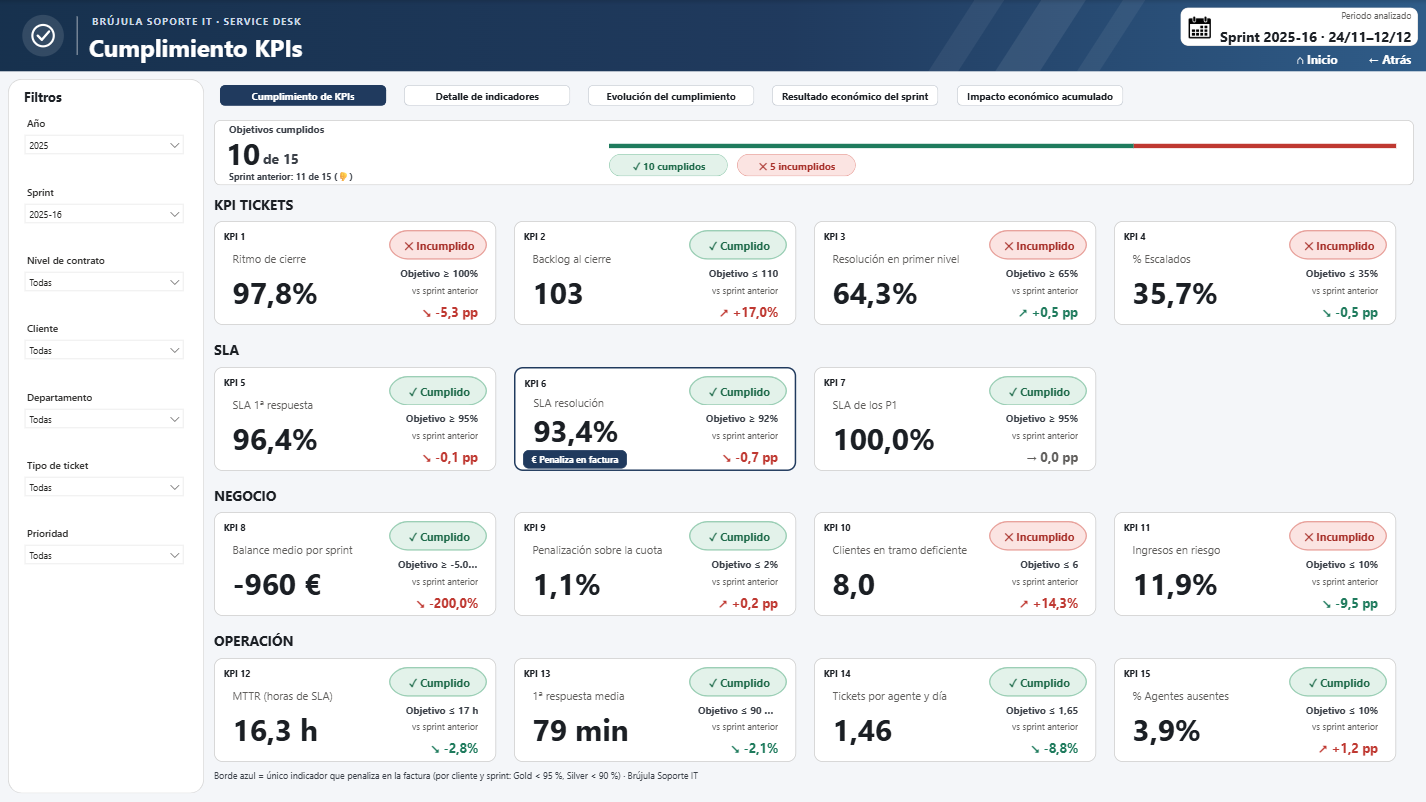

The dashboard page shown, as its layout file describes it:
{"tool":"powerbi","page":{"name":"Cumplimiento de KPIs","canvas":[1920,1080],"ordinal":1},"visuals":[{"type":"shape","box":[10.9,106,263.9,962],"z":0},{"type":"textbox","box":[32,118,216,32],"z":1000},{"type":"slicer","fields":{"Values":["Sprint.Año"]},"box":[28,158,224,80],"z":2000},{"type":"slicer","fields":{"Values":["Sprint.Sprint"]},"box":[28,250,224,80],"z":3000},{"type":"slicer","fields":{"Values":["Cliente.Nivel de contrato"]},"box":[28,342,224,80],"z":4000},{"type":"slicer","fields":{"Values":["Cliente.Cliente"]},"box":[28,434,224,80],"z":5000},{"type":"slicer","fields":{"Values":["Departamento.Departamento"]},"box":[28,526,224,80],"z":6000},{"type":"slicer","fields":{"Values":["Política SLA.Tipo"]},"box":[28,618,224,80],"z":7000},{"type":"slicer","fields":{"Values":["Política SLA.Prioridad"]},"box":[28,710,224,80],"z":8000},{"type":"textbox","box":[120,42,1000,44],"z":9000},{"type":"shape","box":[288,162,1616,88],"z":10000},{"type":"textbox","box":[308,166,300,18],"z":11000},{"type":"cardVisual","fields":{"Data":["Medidas.KPI Cumplido"]},"box":[304,188.3,60,44.3],"z":12000},{"type":"cardVisual","fields":{"Data":["Medidas.Texto total objetivos"]},"box":[354,182,120,44],"z":13000},{"type":"cardVisual","fields":{"Data":["Medidas.Texto sprint anterior objetivos"]},"box":[308.4,215.5,479.4,35],"z":14000},{"type":"hundredPercentStackedBarChart","fields":{"Category":["Sprint.Sprint"],"Y":["Medidas.KPI Cumplido","Medidas.KPI Incumplido"]},"box":[820,178,1060,30],"z":15000},{"type":"cardVisual","fields":{"Data":["Medidas.Texto leyenda cumplidos"]},"box":[820,208,160,30],"z":16000},{"type":"cardVisual","fields":{"Data":["Medidas.Texto leyenda incumplidos"]},"box":[992,208,160,30],"z":17000},{"type":"textbox","box":[288,262,600,32],"z":18000},{"type":"cardVisual","title":"KPI 1","fields":{"Data":["Medidas.Valor KPI"]},"box":[288,298,380,140],"z":19000},{"type":"cardVisual","fields":{"Data":["Medidas.Texto estado"]},"box":[524,310,132,40],"z":20000},{"type":"cardVisual","fields":{"Data":["Medidas.Texto objetivo KPI"]},"box":[524,350,132,26],"z":21000},{"type":"cardVisual","fields":{"Data":["Medidas.Variación KPI texto"]},"box":[524,378,132,56],"z":22000},{"type":"cardVisual","title":"KPI 2","fields":{"Data":["Medidas.Valor KPI"]},"box":[692,298,380,140],"z":23000},{"type":"cardVisual","fields":{"Data":["Medidas.Texto estado"]},"box":[928,310,132,40],"z":24000},{"type":"cardVisual","fields":{"Data":["Medidas.Texto objetivo KPI"]},"box":[928,350,132,26],"z":25000},{"type":"cardVisual","fields":{"Data":["Medidas.Variación KPI texto"]},"box":[928,378,132,56],"z":26000},{"type":"cardVisual","title":"KPI 3","fields":{"Data":["Medidas.Valor KPI"]},"box":[1096,298,380,140],"z":27000},{"type":"cardVisual","fields":{"Data":["Medidas.Texto estado"]},"box":[1332,310,132,40],"z":28000},{"type":"cardVisual","fields":{"Data":["Medidas.Texto objetivo KPI"]},"box":[1332,350,132,26],"z":29000},{"type":"cardVisual","fields":{"Data":["Medidas.Variación KPI texto"]},"box":[1332,378,132,56],"z":30000},{"type":"cardVisual","title":"KPI 4","fields":{"Data":["Medidas.Valor KPI"]},"box":[1500,298,380,140],"z":31000},{"type":"cardVisual","fields":{"Data":["Medidas.Texto estado"]},"box":[1736,310,132,40],"z":32000},{"type":"cardVisual","fields":{"Data":["Medidas.Texto objetivo KPI"]},"box":[1736,350,132,26],"z":33000},{"type":"cardVisual","fields":{"Data":["Medidas.Variación KPI texto"]},"box":[1736,378,132,56],"z":34000},{"type":"textbox","box":[288,458,600,32],"z":35000},{"type":"cardVisual","title":"KPI 5","fields":{"Data":["Medidas.Valor KPI"]},"box":[288,494,380,140],"z":36000},{"type":"cardVisual","fields":{"Data":["Medidas.Texto estado"]},"box":[524,506,132,40],"z":37000},{"type":"cardVisual","fields":{"Data":["Medidas.Texto objetivo KPI"]},"box":[524,546,132,26],"z":38000},{"type":"cardVisual","fields":{"Data":["Medidas.Variación KPI texto"]},"box":[524,574,132,56],"z":39000},{"type":"cardVisual","title":"KPI 6","fields":{"Data":["Medidas.Valor KPI"]},"box":[692,494,380,140],"z":40000},{"type":"textbox","box":[704,606,140,25],"z":41000},{"type":"cardVisual","fields":{"Data":["Medidas.Texto estado"]},"box":[928,506,132,40],"z":42000},{"type":"cardVisual","fields":{"Data":["Medidas.Texto objetivo KPI"]},"box":[928,546,132,26],"z":43000},{"type":"cardVisual","fields":{"Data":["Medidas.Variación KPI texto"]},"box":[928,574,132,56],"z":44000},{"type":"cardVisual","title":"KPI 7","fields":{"Data":["Medidas.Valor KPI"]},"box":[1096,494,380,140],"z":45000},{"type":"cardVisual","fields":{"Data":["Medidas.Texto estado"]},"box":[1332,506,132,40],"z":46000},{"type":"cardVisual","fields":{"Data":["Medidas.Texto objetivo KPI"]},"box":[1332,546,132,26],"z":47000},{"type":"cardVisual","fields":{"Data":["Medidas.Variación KPI texto"]},"box":[1332,574,132,56],"z":48000},{"type":"textbox","box":[288,654,600,32],"z":49000},{"type":"cardVisual","title":"KPI 8","fields":{"Data":["Medidas.Valor KPI"]},"box":[288,690,380,140],"z":50000},{"type":"cardVisual","fields":{"Data":["Medidas.Texto estado"]},"box":[524,702,132,40],"z":51000},{"type":"cardVisual","fields":{"Data":["Medidas.Texto objetivo KPI"]},"box":[524,742,132,26],"z":52000},{"type":"cardVisual","fields":{"Data":["Medidas.Variación KPI texto"]},"box":[524,770,132,56],"z":53000},{"type":"cardVisual","title":"KPI 9","fields":{"Data":["Medidas.Valor KPI"]},"box":[692,690,380,140],"z":54000},{"type":"cardVisual","fields":{"Data":["Medidas.Texto estado"]},"box":[928,702,132,40],"z":55000},{"type":"cardVisual","fields":{"Data":["Medidas.Texto objetivo KPI"]},"box":[928,742,132,26],"z":56000},{"type":"cardVisual","fields":{"Data":["Medidas.Variación KPI texto"]},"box":[928,770,132,56],"z":57000},{"type":"cardVisual","title":"KPI 10","fields":{"Data":["Medidas.Valor KPI"]},"box":[1096,690,380,140],"z":58000},{"type":"cardVisual","fields":{"Data":["Medidas.Texto estado"]},"box":[1332,702,132,40],"z":59000},{"type":"cardVisual","fields":{"Data":["Medidas.Texto objetivo KPI"]},"box":[1332,742,132,26],"z":60000},{"type":"cardVisual","fields":{"Data":["Medidas.Variación KPI texto"]},"box":[1332,770,132,56],"z":61000},{"type":"cardVisual","title":"KPI 11","fields":{"Data":["Medidas.Valor KPI"]},"box":[1500,690,380,140],"z":62000},{"type":"cardVisual","fields":{"Data":["Medidas.Texto estado"]},"box":[1736,702,132,40],"z":63000},{"type":"cardVisual","fields":{"Data":["Medidas.Texto objetivo KPI"]},"box":[1736,742,132,26],"z":64000},{"type":"cardVisual","fields":{"Data":["Medidas.Variación KPI texto"]},"box":[1736,770,132,56],"z":65000},{"type":"textbox","box":[288,850,600,32],"z":66000},{"type":"cardVisual","title":"KPI 12","fields":{"Data":["Medidas.Valor KPI"]},"box":[288,886,380,140],"z":67000},{"type":"cardVisual","fields":{"Data":["Medidas.Texto estado"]},"box":[524,898,132,40],"z":68000},{"type":"cardVisual","fields":{"Data":["Medidas.Texto objetivo KPI"]},"box":[524,938,132,26],"z":69000},{"type":"cardVisual","fields":{"Data":["Medidas.Variación KPI texto"]},"box":[524,966,132,56],"z":70000},{"type":"cardVisual","title":"KPI 13","fields":{"Data":["Medidas.Valor KPI"]},"box":[692,886,380,140],"z":71000},{"type":"cardVisual","fields":{"Data":["Medidas.Texto estado"]},"box":[928,898,132,40],"z":72000},{"type":"cardVisual","fields":{"Data":["Medidas.Texto objetivo KPI"]},"box":[928,938,132,26],"z":73000},{"type":"cardVisual","fields":{"Data":["Medidas.Variación KPI texto"]},"box":[928,966,132,56],"z":74000},{"type":"cardVisual","title":"KPI 14","fields":{"Data":["Medidas.Valor KPI"]},"box":[1096,886,380,140],"z":75000},{"type":"cardVisual","fields":{"Data":["Medidas.Texto estado"]},"box":[1332,898,132,40],"z":76000},{"type":"cardVisual","fields":{"Data":["Medidas.Texto objetivo KPI"]},"box":[1332,938,132,26],"z":77000},{"type":"cardVisual","fields":{"Data":["Medidas.Variación KPI texto"]},"box":[1332,966,132,56],"z":78000},{"type":"cardVisual","title":"KPI 15","fields":{"Data":["Medidas.Valor KPI"]},"box":[1500,886,380,140],"z":79000},{"type":"cardVisual","fields":{"Data":["Medidas.Texto estado"]},"box":[1736,898,132,40],"z":80000},{"type":"cardVisual","fields":{"Data":["Medidas.Texto objetivo KPI"]},"box":[1736,938,132,26],"z":81000},{"type":"cardVisual","fields":{"Data":["Medidas.Variación KPI texto"]},"box":[1736,966,132,56],"z":82000},{"type":"textbox","box":[288,1036,1616,28],"z":83000},{"type":"actionButton","box":[288,106,240,44],"z":84000},{"type":"actionButton","box":[536,106,240,44],"z":85000},{"type":"actionButton","box":[784,106,240,44],"z":86000},{"type":"actionButton","box":[1032,106,240,44],"z":87000},{"type":"actionButton","box":[1280,106,240,44],"z":88000},{"type":"cardVisual","fields":{"Data":["Medidas.Periodo seleccionado"]},"box":[1580,0,340,72],"z":88001},{"type":"actionButton","box":[1823,56.6,97,44.4],"z":88002},{"type":"actionButton","box":[1723.7,56.6,99.7,44.4],"z":88003}]}

Visuals, with their boxes in screenshot pixels (x1, y1, x2, y2), scaled from the page's 1920x1080 canvas onto the 1426x802 screenshot:
shape: select_region(8, 79, 204, 793)
textbox: select_region(24, 88, 184, 111)
slicer - Sprint.Año: select_region(21, 117, 187, 177)
slicer - Sprint.Sprint: select_region(21, 186, 187, 245)
slicer - Cliente.Nivel de contrato: select_region(21, 254, 187, 313)
slicer - Cliente.Cliente: select_region(21, 322, 187, 382)
slicer - Departamento.Departamento: select_region(21, 391, 187, 450)
slicer - Política SLA.Tipo: select_region(21, 459, 187, 518)
slicer - Política SLA.Prioridad: select_region(21, 527, 187, 587)
textbox: select_region(89, 31, 832, 64)
shape: select_region(214, 120, 1414, 186)
textbox: select_region(229, 123, 452, 137)
cardVisual - Medidas.KPI Cumplido: select_region(226, 140, 270, 173)
cardVisual - Medidas.Texto total objetivos: select_region(263, 135, 352, 168)
cardVisual - Medidas.Texto sprint anterior objetivos: select_region(229, 160, 585, 186)
hundredPercentStackedBarChart - Sprint.Sprint x Medidas.KPI Cumplido: select_region(609, 132, 1396, 154)
cardVisual - Medidas.Texto leyenda cumplidos: select_region(609, 154, 728, 177)
cardVisual - Medidas.Texto leyenda incumplidos: select_region(737, 154, 856, 177)
textbox: select_region(214, 195, 660, 218)
"KPI 1" cardVisual: select_region(214, 221, 496, 325)
cardVisual - Medidas.Texto estado: select_region(389, 230, 487, 260)
cardVisual - Medidas.Texto objetivo KPI: select_region(389, 260, 487, 279)
cardVisual - Medidas.Variación KPI texto: select_region(389, 281, 487, 322)
"KPI 2" cardVisual: select_region(514, 221, 796, 325)
cardVisual - Medidas.Texto estado: select_region(689, 230, 787, 260)
cardVisual - Medidas.Texto objetivo KPI: select_region(689, 260, 787, 279)
cardVisual - Medidas.Variación KPI texto: select_region(689, 281, 787, 322)
"KPI 3" cardVisual: select_region(814, 221, 1096, 325)
cardVisual - Medidas.Texto estado: select_region(989, 230, 1087, 260)
cardVisual - Medidas.Texto objetivo KPI: select_region(989, 260, 1087, 279)
cardVisual - Medidas.Variación KPI texto: select_region(989, 281, 1087, 322)
"KPI 4" cardVisual: select_region(1114, 221, 1396, 325)
cardVisual - Medidas.Texto estado: select_region(1289, 230, 1387, 260)
cardVisual - Medidas.Texto objetivo KPI: select_region(1289, 260, 1387, 279)
cardVisual - Medidas.Variación KPI texto: select_region(1289, 281, 1387, 322)
textbox: select_region(214, 340, 660, 364)
"KPI 5" cardVisual: select_region(214, 367, 496, 471)
cardVisual - Medidas.Texto estado: select_region(389, 376, 487, 405)
cardVisual - Medidas.Texto objetivo KPI: select_region(389, 405, 487, 425)
cardVisual - Medidas.Variación KPI texto: select_region(389, 426, 487, 468)
"KPI 6" cardVisual: select_region(514, 367, 796, 471)
textbox: select_region(523, 450, 627, 469)
cardVisual - Medidas.Texto estado: select_region(689, 376, 787, 405)
cardVisual - Medidas.Texto objetivo KPI: select_region(689, 405, 787, 425)
cardVisual - Medidas.Variación KPI texto: select_region(689, 426, 787, 468)
"KPI 7" cardVisual: select_region(814, 367, 1096, 471)
cardVisual - Medidas.Texto estado: select_region(989, 376, 1087, 405)
cardVisual - Medidas.Texto objetivo KPI: select_region(989, 405, 1087, 425)
cardVisual - Medidas.Variación KPI texto: select_region(989, 426, 1087, 468)
textbox: select_region(214, 486, 660, 509)
"KPI 8" cardVisual: select_region(214, 512, 496, 616)
cardVisual - Medidas.Texto estado: select_region(389, 521, 487, 551)
cardVisual - Medidas.Texto objetivo KPI: select_region(389, 551, 487, 570)
cardVisual - Medidas.Variación KPI texto: select_region(389, 572, 487, 613)
"KPI 9" cardVisual: select_region(514, 512, 796, 616)
cardVisual - Medidas.Texto estado: select_region(689, 521, 787, 551)
cardVisual - Medidas.Texto objetivo KPI: select_region(689, 551, 787, 570)
cardVisual - Medidas.Variación KPI texto: select_region(689, 572, 787, 613)
"KPI 10" cardVisual: select_region(814, 512, 1096, 616)
cardVisual - Medidas.Texto estado: select_region(989, 521, 1087, 551)
cardVisual - Medidas.Texto objetivo KPI: select_region(989, 551, 1087, 570)
cardVisual - Medidas.Variación KPI texto: select_region(989, 572, 1087, 613)
"KPI 11" cardVisual: select_region(1114, 512, 1396, 616)
cardVisual - Medidas.Texto estado: select_region(1289, 521, 1387, 551)
cardVisual - Medidas.Texto objetivo KPI: select_region(1289, 551, 1387, 570)
cardVisual - Medidas.Variación KPI texto: select_region(1289, 572, 1387, 613)
textbox: select_region(214, 631, 660, 655)
"KPI 12" cardVisual: select_region(214, 658, 496, 762)
cardVisual - Medidas.Texto estado: select_region(389, 667, 487, 697)
cardVisual - Medidas.Texto objetivo KPI: select_region(389, 697, 487, 716)
cardVisual - Medidas.Variación KPI texto: select_region(389, 717, 487, 759)
"KPI 13" cardVisual: select_region(514, 658, 796, 762)
cardVisual - Medidas.Texto estado: select_region(689, 667, 787, 697)
cardVisual - Medidas.Texto objetivo KPI: select_region(689, 697, 787, 716)
cardVisual - Medidas.Variación KPI texto: select_region(689, 717, 787, 759)
"KPI 14" cardVisual: select_region(814, 658, 1096, 762)
cardVisual - Medidas.Texto estado: select_region(989, 667, 1087, 697)
cardVisual - Medidas.Texto objetivo KPI: select_region(989, 697, 1087, 716)
cardVisual - Medidas.Variación KPI texto: select_region(989, 717, 1087, 759)
"KPI 15" cardVisual: select_region(1114, 658, 1396, 762)
cardVisual - Medidas.Texto estado: select_region(1289, 667, 1387, 697)
cardVisual - Medidas.Texto objetivo KPI: select_region(1289, 697, 1387, 716)
cardVisual - Medidas.Variación KPI texto: select_region(1289, 717, 1387, 759)
textbox: select_region(214, 769, 1414, 790)
actionButton: select_region(214, 79, 392, 111)
actionButton: select_region(398, 79, 576, 111)
actionButton: select_region(582, 79, 761, 111)
actionButton: select_region(766, 79, 945, 111)
actionButton: select_region(951, 79, 1129, 111)
cardVisual - Medidas.Periodo seleccionado: select_region(1173, 0, 1425, 53)
actionButton: select_region(1354, 42, 1425, 75)
actionButton: select_region(1280, 42, 1354, 75)
